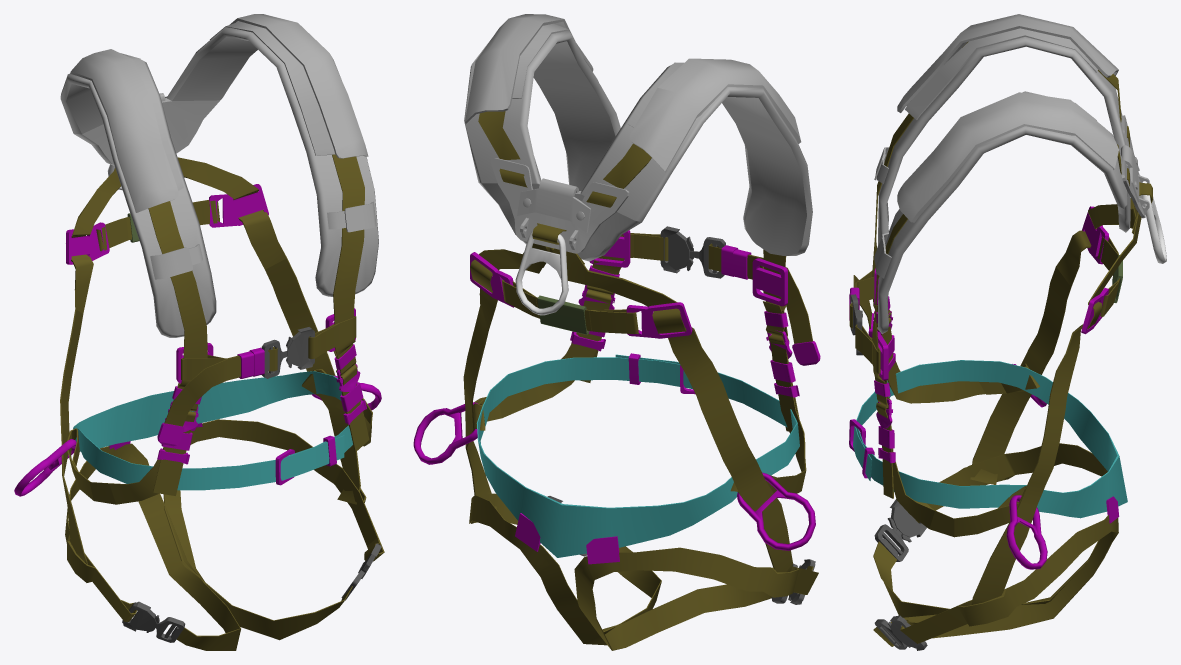
The model's file is Harness_ForExternalUse.fbx.
3 views of the same model, side by side, from view 1: azimuth 30°, elevation 25°; view 2: azimuth 150°, elevation 25°; view 3: azimuth 270°, elevation 25° (orthographic). The views are drawn at different scales.
Visible parts, largest first — view 1: armPads, grommetBelt, pPlane11, pPlane20, pPlane6, pPlane15, pPlane4, pPlane14, pPlane17, pPlane2, pPlane7, pPipe25 (+7 smaller); view 2: armPads, grommetBelt, pPlane20, pPlane15, pPlane11, pPlane6, pPlane7, pPlane14, pPlane4, pPlane17, D_Ring, pPlane2 (+14 smaller); view 3: armPads, grommetBelt, pPlane11, pPlane15, pPlane6, pPlane20, pPlane7, pPlane17, polySurface1, pPlane14, pPlane4, pPipe33 (+6 smaller).
Boxes of the visible parts, x1=… form: armPads: x1=60, y1=14, x2=378, y2=337; grommetBelt: x1=73, y1=371, x2=352, y2=490; pPlane11: x1=163, y1=419, x2=384, y2=640; pPlane20: x1=65, y1=443, x2=240, y2=650; pPlane6: x1=177, y1=157, x2=360, y2=504; pPlane15: x1=60, y1=168, x2=120, y2=564; pPlane4: x1=332, y1=154, x2=364, y2=375; pPlane14: x1=148, y1=201, x2=207, y2=411; pPlane17: x1=67, y1=411, x2=195, y2=504; pPlane2: x1=164, y1=347, x2=277, y2=426; pPlane7: x1=302, y1=364, x2=372, y2=452; pPipe25: x1=209, y1=184, x2=268, y2=227; armPads: x1=464, y1=14, x2=812, y2=261; grommetBelt: x1=476, y1=354, x2=799, y2=557; pPlane20: x1=574, y1=547, x2=818, y2=650; pPlane15: x1=545, y1=246, x2=792, y2=572; pPlane11: x1=469, y1=493, x2=661, y2=645; pPlane6: x1=463, y1=243, x2=554, y2=508; pPlane7: x1=473, y1=289, x2=611, y2=430; pPlane14: x1=532, y1=143, x2=787, y2=337; pPlane4: x1=478, y1=111, x2=624, y2=294; pPlane17: x1=730, y1=334, x2=806, y2=497; D_Ring: x1=515, y1=231, x2=568, y2=315; pPlane2: x1=708, y1=243, x2=812, y2=343; armPads: x1=874, y1=14, x2=1149, y2=333; grommetBelt: x1=853, y1=360, x2=1127, y2=518; pPlane11: x1=873, y1=515, x2=1118, y2=646; pPlane15: x1=970, y1=204, x2=1137, y2=484; pPlane6: x1=971, y1=205, x2=1141, y2=604; pPlane20: x1=873, y1=443, x2=1107, y2=617; pPlane7: x1=876, y1=402, x2=1026, y2=537; pPlane17: x1=877, y1=317, x2=1039, y2=403; polySurface1: x1=1006, y1=495, x2=1047, y2=569; pPlane14: x1=872, y1=41, x2=1152, y2=328; pPlane4: x1=872, y1=144, x2=1152, y2=406; pPipe33: x1=887, y1=499, x2=926, y2=542.
Size of the model in its own units: 54.08 by 80.13 by 40.25.
